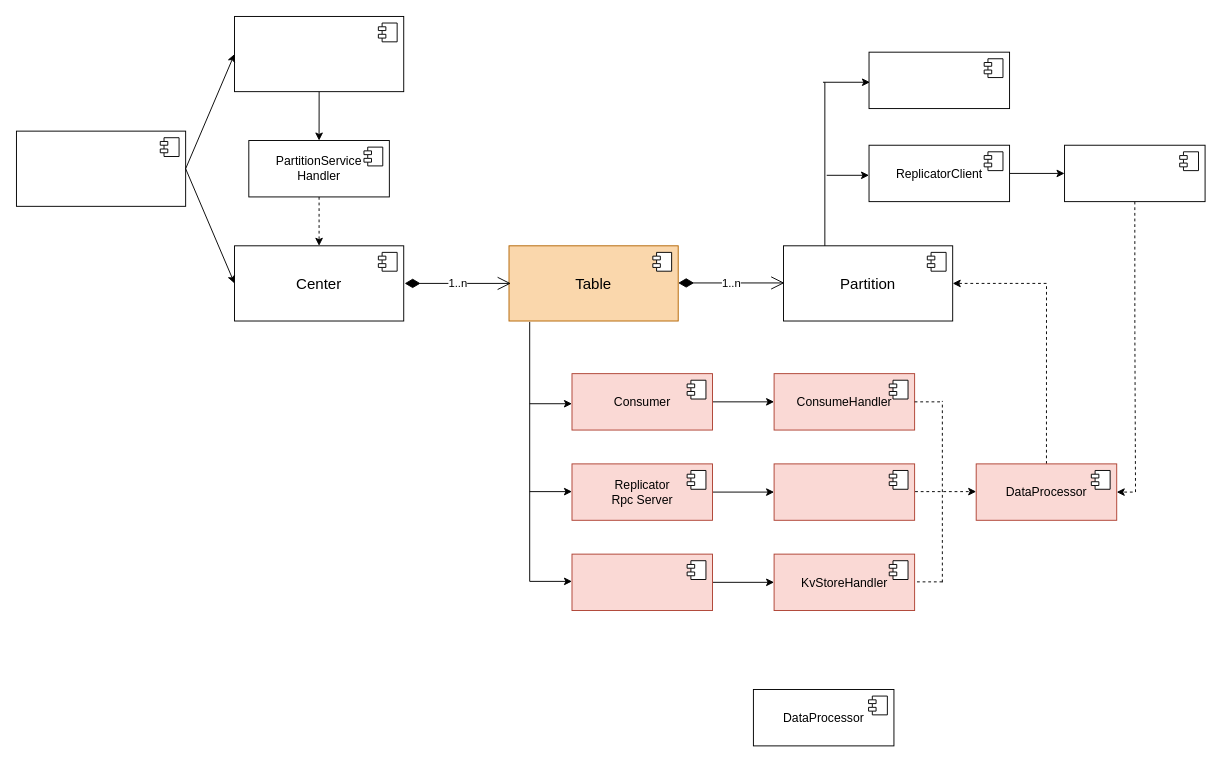
Some shapes in this 1222 by 762 pixel diagram are drawn without their labels. The shapes that lost their labels are listed below. From the top down, each one's centre as x and y in pixels, then its label:
At (319,54): "PartitionService Rpc Server".
At (939,80): "ZDB".
At (101,168): "PartitionServer".
At (1134,173): "ReplicatorClientHandler".
At (844,491): "ReplicatorHandler".
At (642,582): "KvStore Rpc Server".
